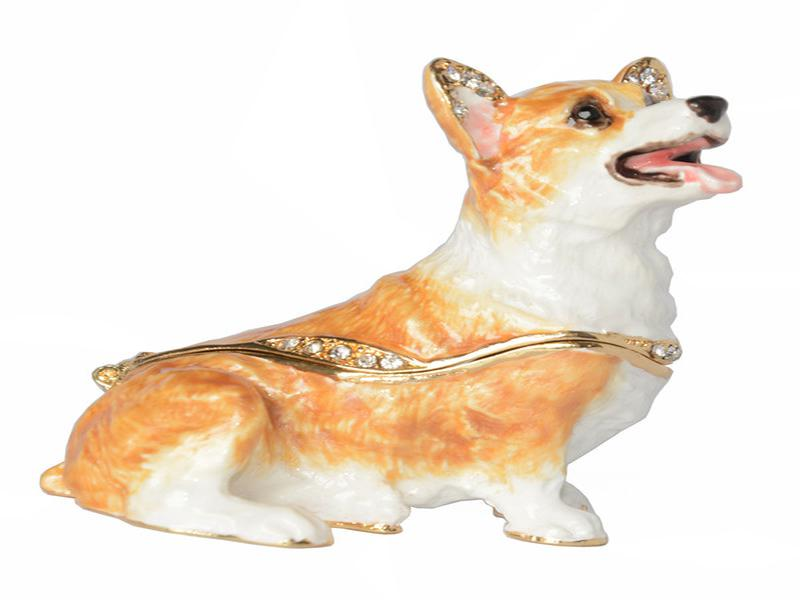corgi: (423, 51, 747, 213)
